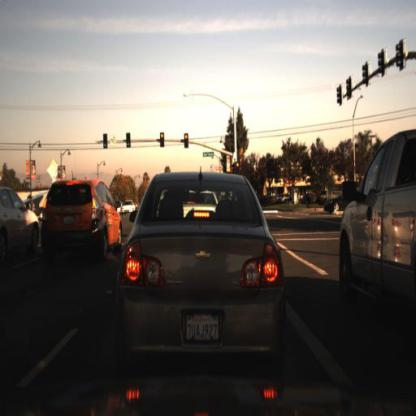car: (120, 173, 285, 370), (339, 129, 416, 327), (40, 174, 121, 268), (1, 178, 42, 268), (121, 198, 138, 218)
trafficLight-GreenLeft: (103, 130, 111, 151), (125, 131, 133, 152)
trafficLight-Red: (160, 130, 168, 149), (183, 133, 191, 152), (234, 161, 241, 179)
